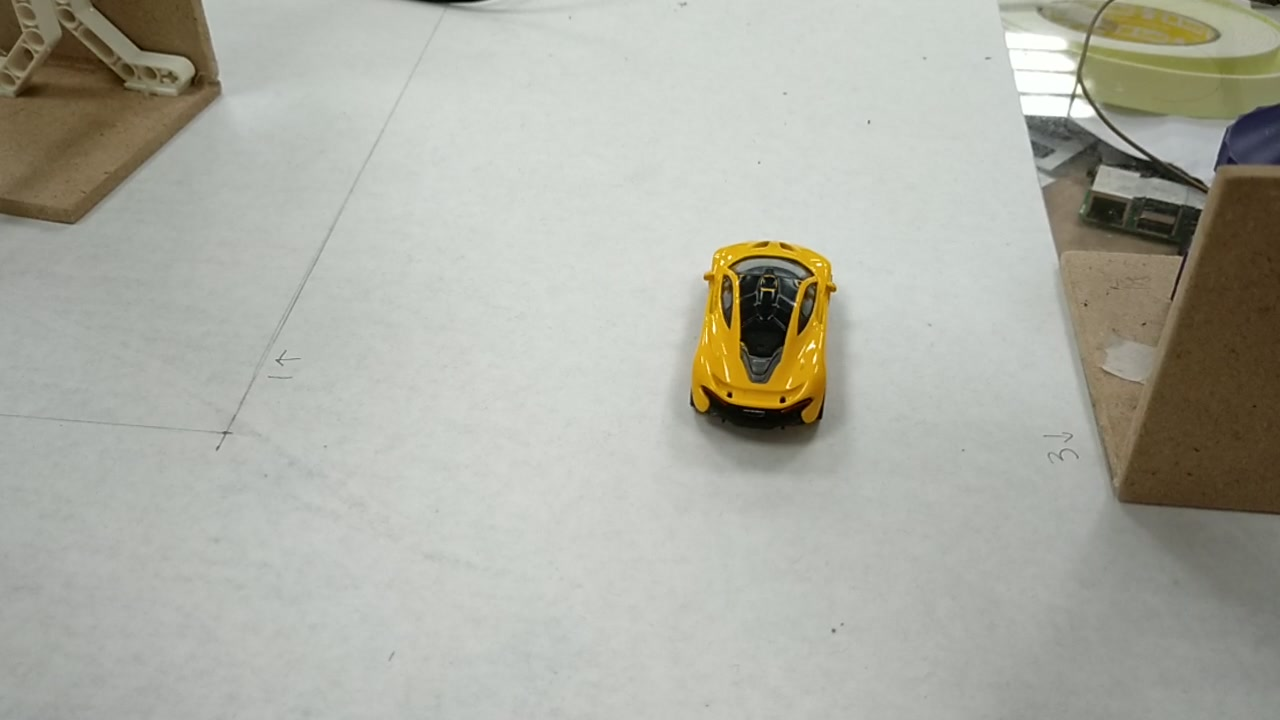car: (695, 239, 831, 432)
